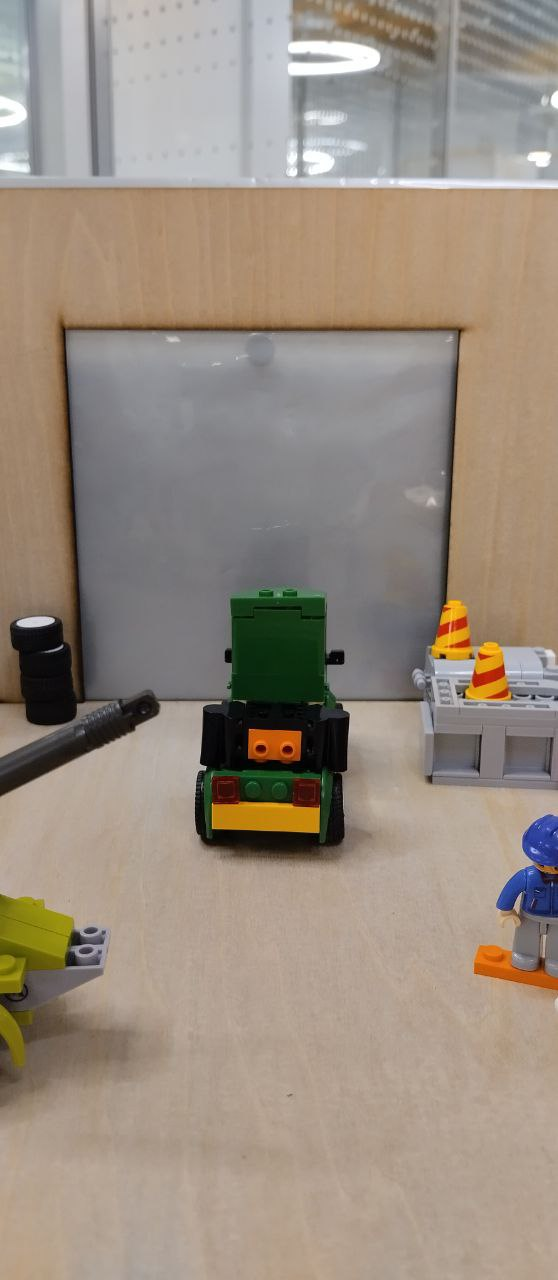Cone: (431, 602, 473, 666), (466, 646, 508, 706)
Object Black: (196, 699, 359, 783)
Truck: (205, 590, 355, 847)
